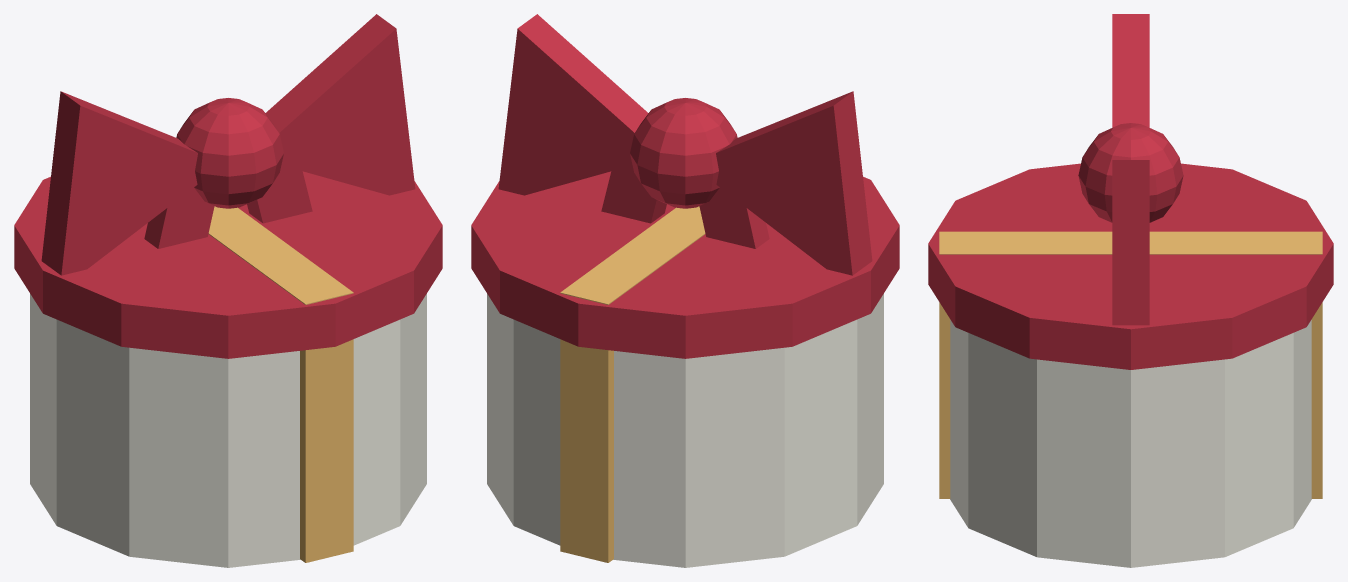
The model's file is three-d-christmas-village-christmas-village-round-hatbox-gift-2a9b12aa.glb.
3 views of the same model, side by side, from view 1: azimuth 30°, elevation 25°; view 2: azimuth 150°, elevation 25°; view 3: azimuth 270°, elevation 25° (orthographic). The views are drawn at different scales.
Visible parts, largest first — view 1: round-hatbox-gift; view 2: round-hatbox-gift; view 3: round-hatbox-gift.
Boxes of the visible parts, x1,y1,x2,y2 form: round-hatbox-gift: (14,14,442,567); round-hatbox-gift: (471,14,899,567); round-hatbox-gift: (928,14,1333,567).
Bounding box in the file's own units: 0.54 × 0.59 × 0.54.
